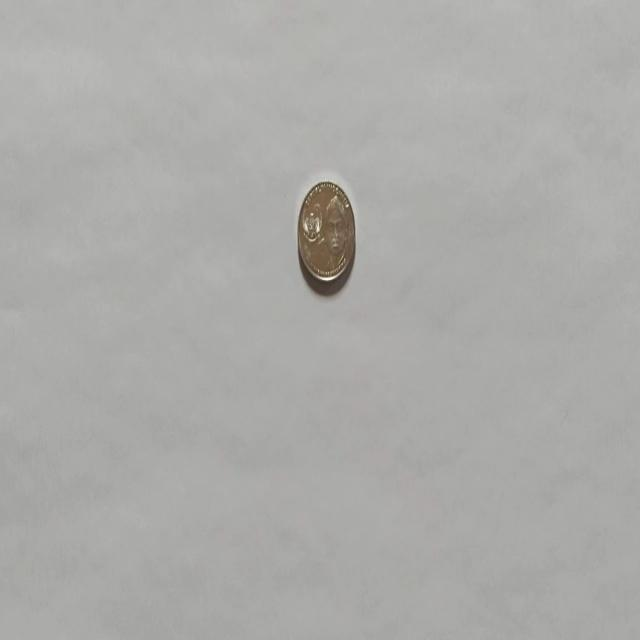dua ratus rupiah: (296, 178, 356, 284)
